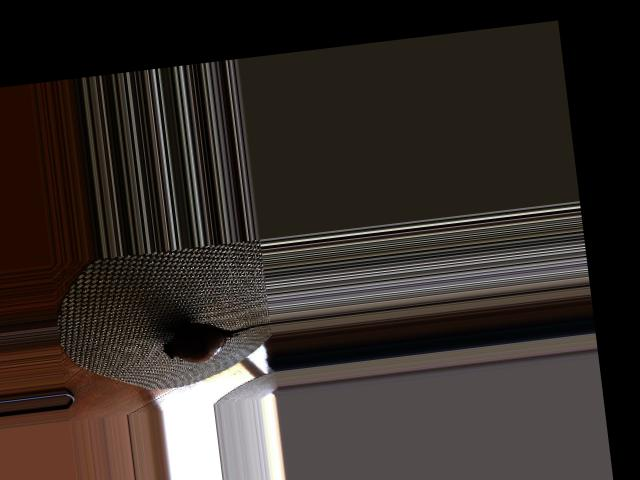beet: (160, 315, 273, 366)
